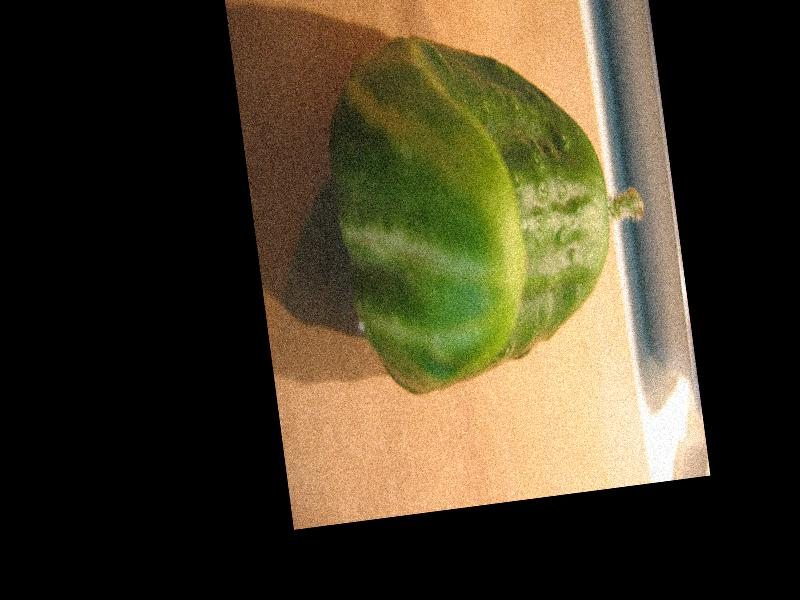Cucumber: (314, 11, 665, 405)
